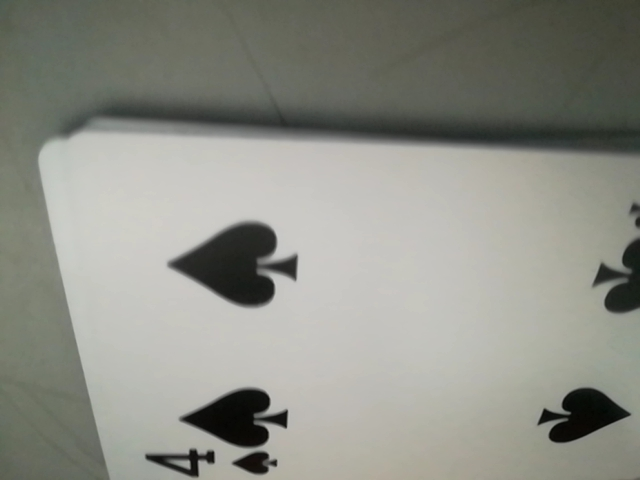ht 4: (132, 440, 294, 480)
